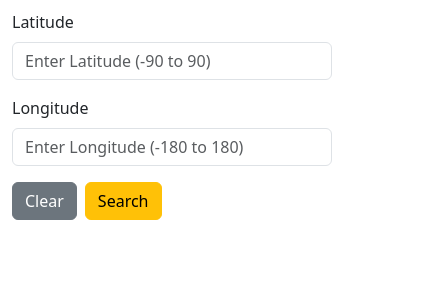
Test: SearchByGeolocation Component › displays warning for invalid latitude
Type "100" into the field labelled "Latitude".
click(172, 61); type("100")  # box [12,42,332,80]
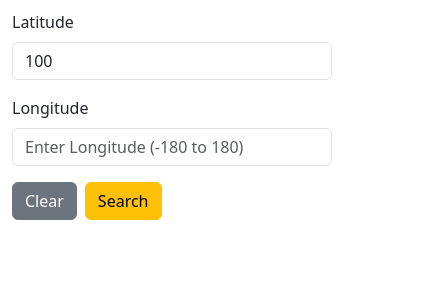
Click the button "Search".
click(123, 201)  # box [85,182,162,220]
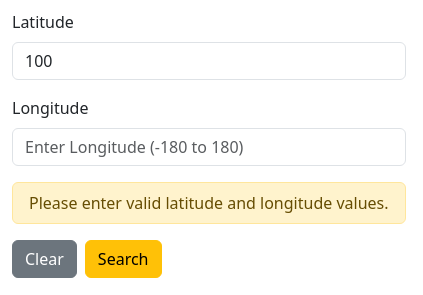
Expected: the text "Please enter valid latitude and longitude values." is shown, [12,182,406,224]
